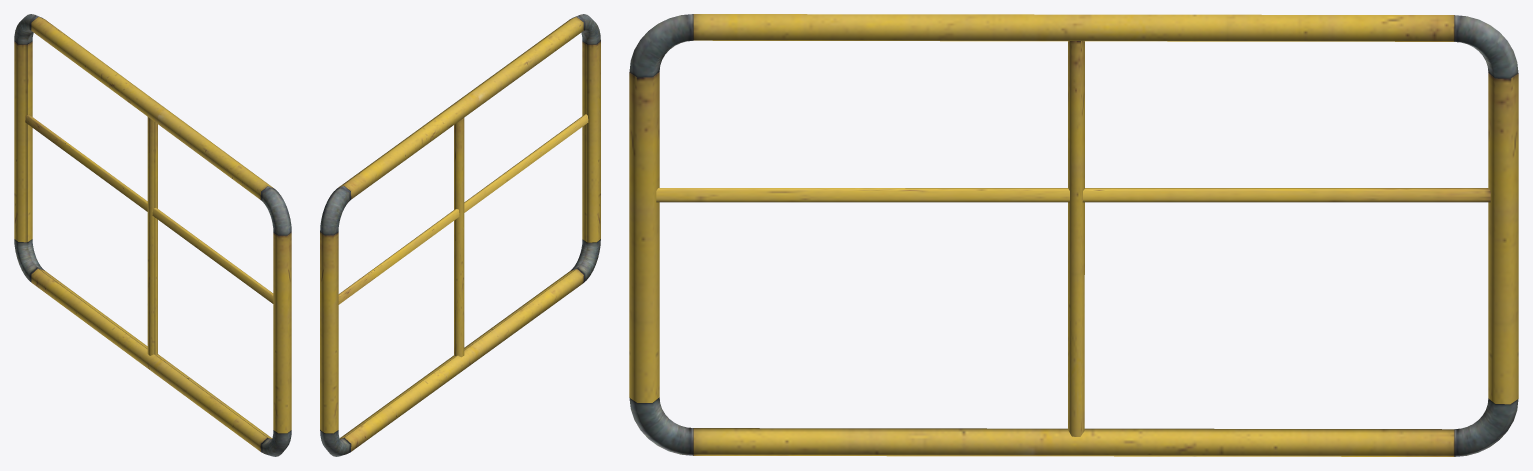
The model's file is Railing_02.fbx.
3 views of the same model, side by side, from view 1: azimuth 30°, elevation 25°; view 2: azimuth 150°, elevation 25°; view 3: azimuth 270°, elevation 25° (orthographic). The views are drawn at different scales.
Visible parts, largest first — view 1: Railing_02; view 2: Railing_02; view 3: Railing_02.
Boxes of the visible parts, x1,y1,x2,y2 form: Railing_02: [14, 14, 291, 456]; Railing_02: [320, 14, 600, 456]; Railing_02: [629, 14, 1518, 456].
Size of the model in its own units: 5.94 by 97.99 by 179.
Materials: 1 (1 with a texture image).
